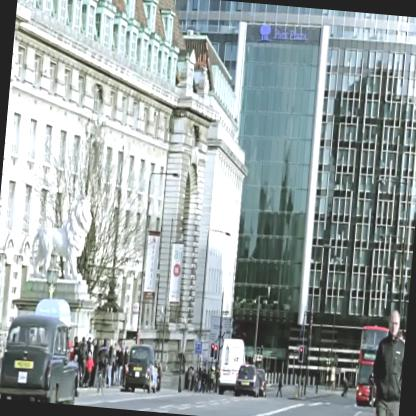bus: (356, 326, 389, 408)
car: (0, 313, 83, 406), (124, 344, 160, 394), (235, 365, 261, 397)
truck: (218, 338, 247, 396)
